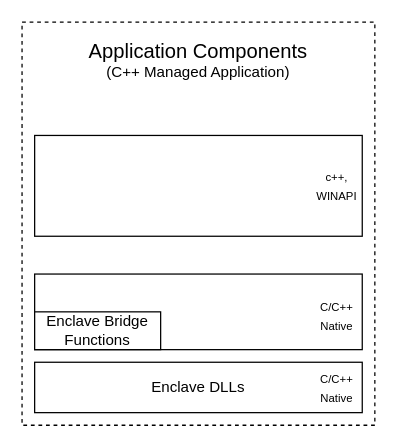
Some shapes in this 397 by 447 pixel diagram are drawn without their labels. Here are the shapes that lost their labels. From the top down, the box of each, then its label:
(33, 134, 362, 236): Application.exe (Encrypter and ML)
(33, 273, 362, 350): Enclave Bridge DLL
